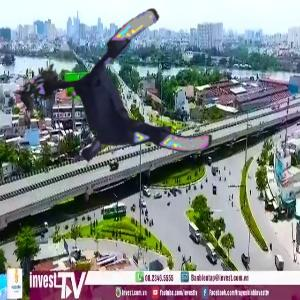drone: (48, 27, 212, 191)
